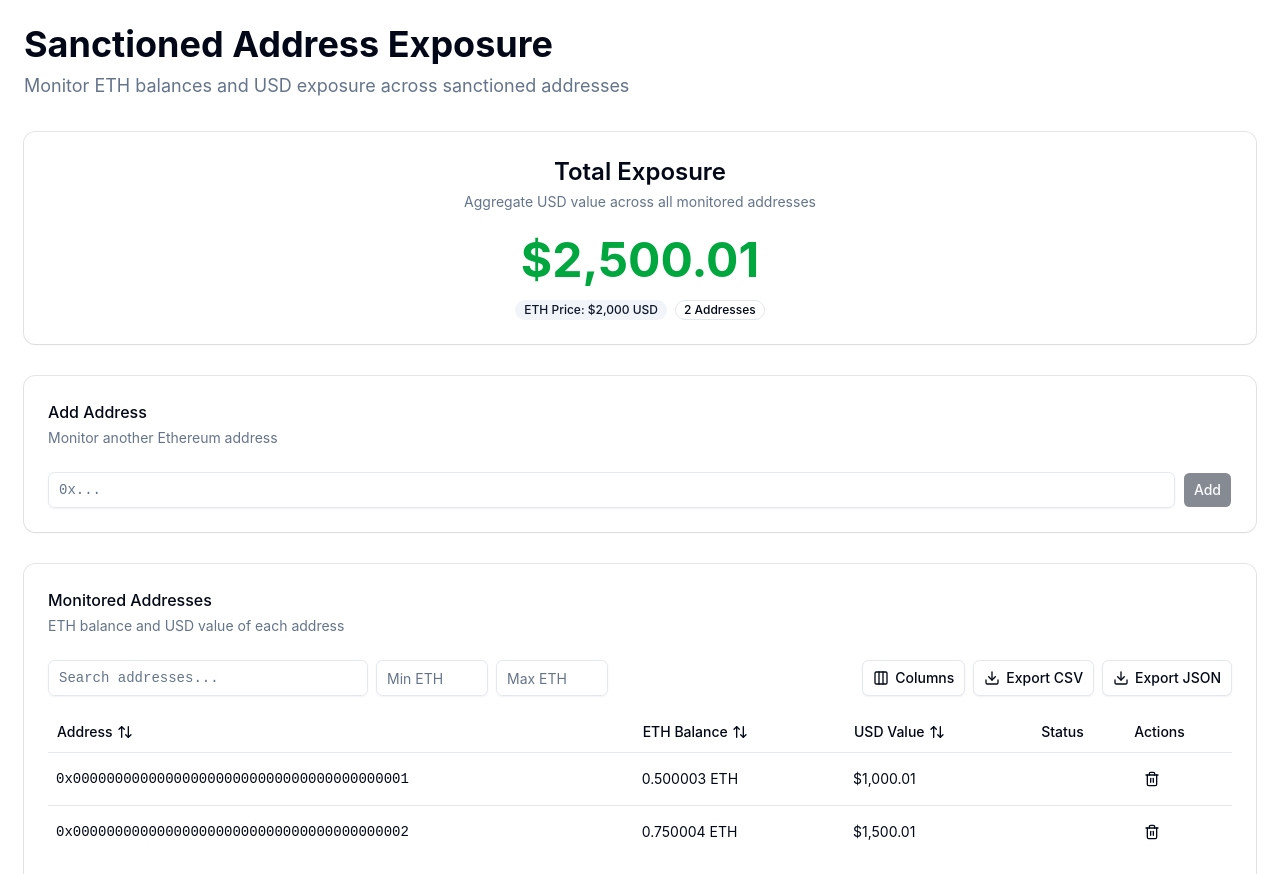
ExposurePage › shows an error toast for an invalid address, adds no row, and keeps the input
Type "0x123" into the field named "Ethereum address" at (611, 490), box left=48, top=472, right=1175, bottom=508
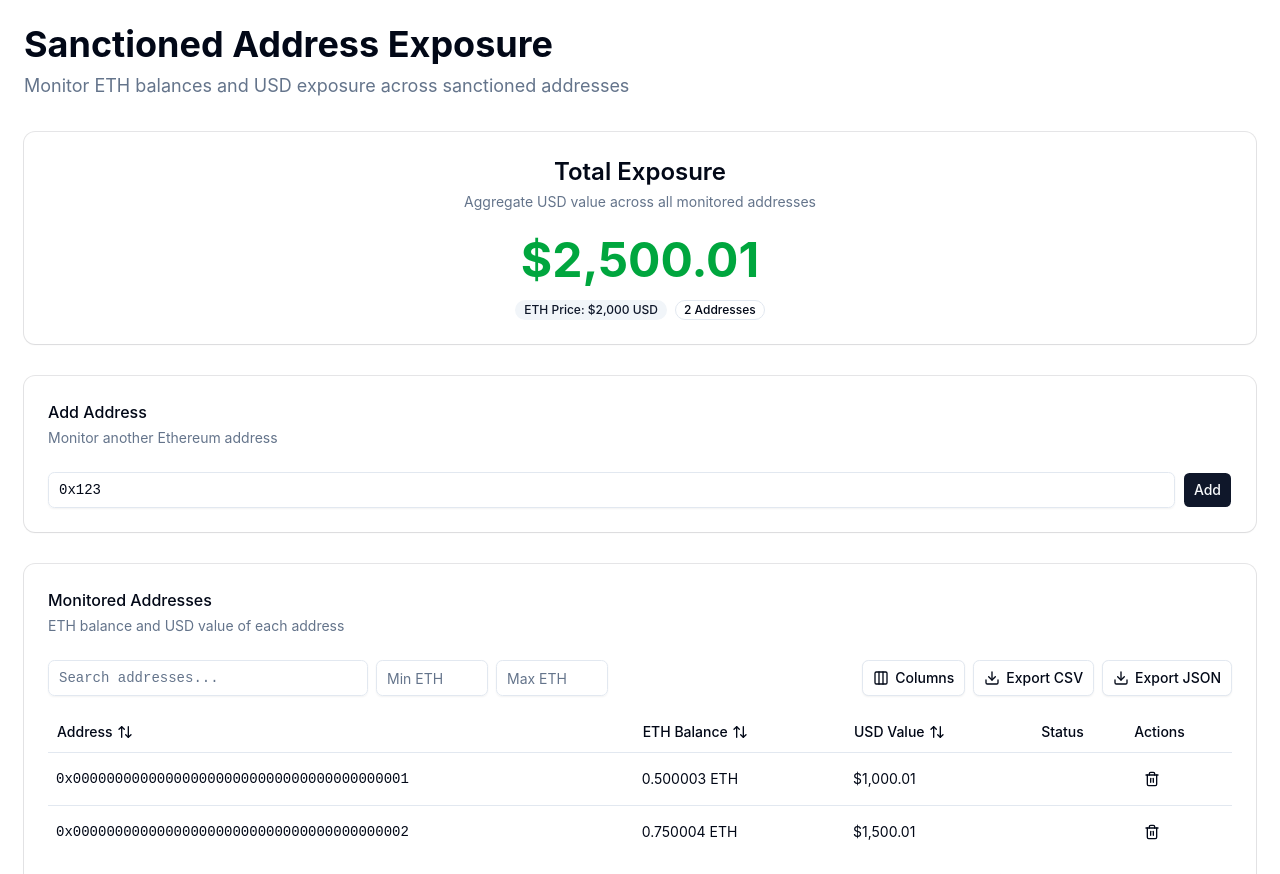
Click the button "Add" at (1207, 490), box left=1183, top=472, right=1232, bottom=508
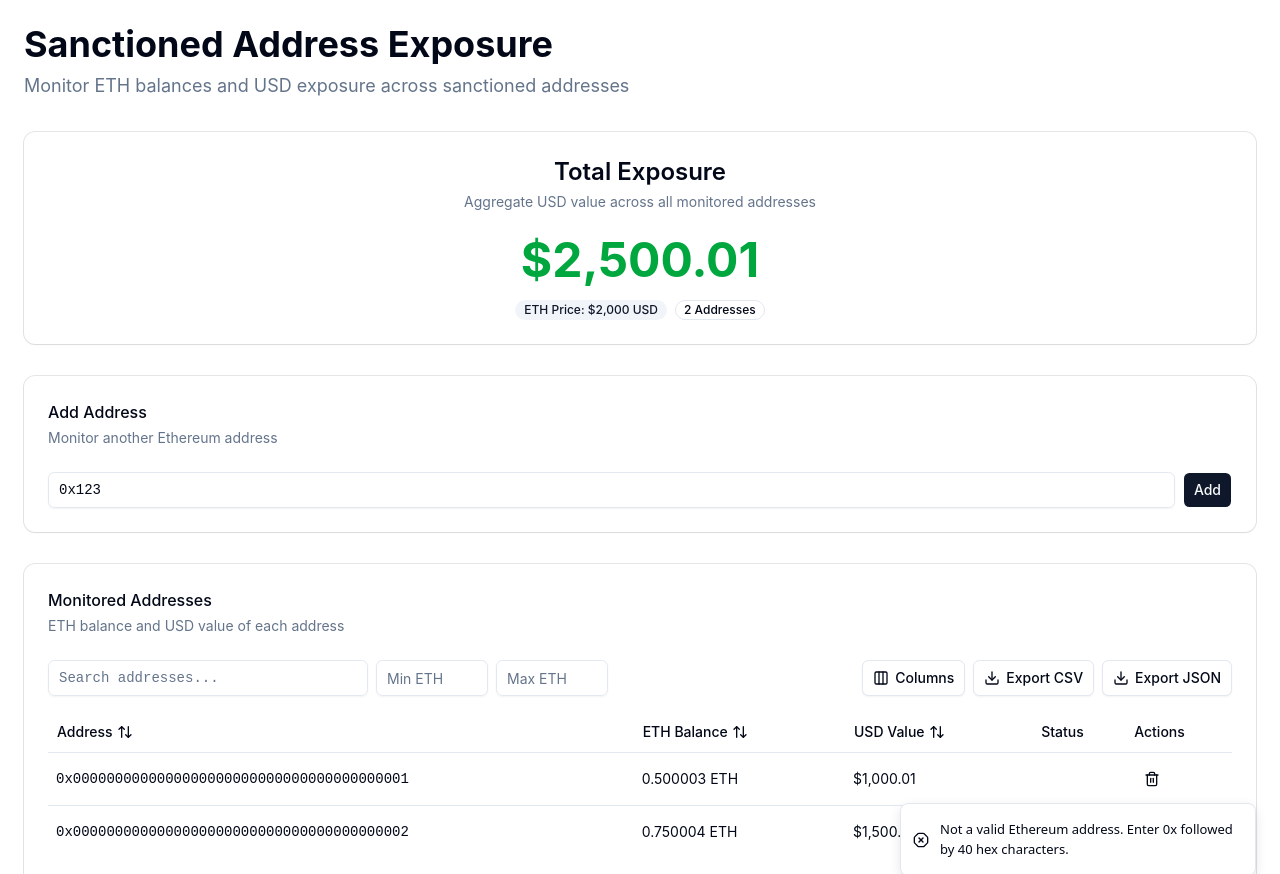
Expected: the number of buttons named "Remove " is 2, left=1134, top=760, right=1170, bottom=796; left=1134, top=814, right=1170, bottom=850
Result: the text "Not a valid Ethereum address" is shown at left=940, top=820, right=1233, bottom=858
